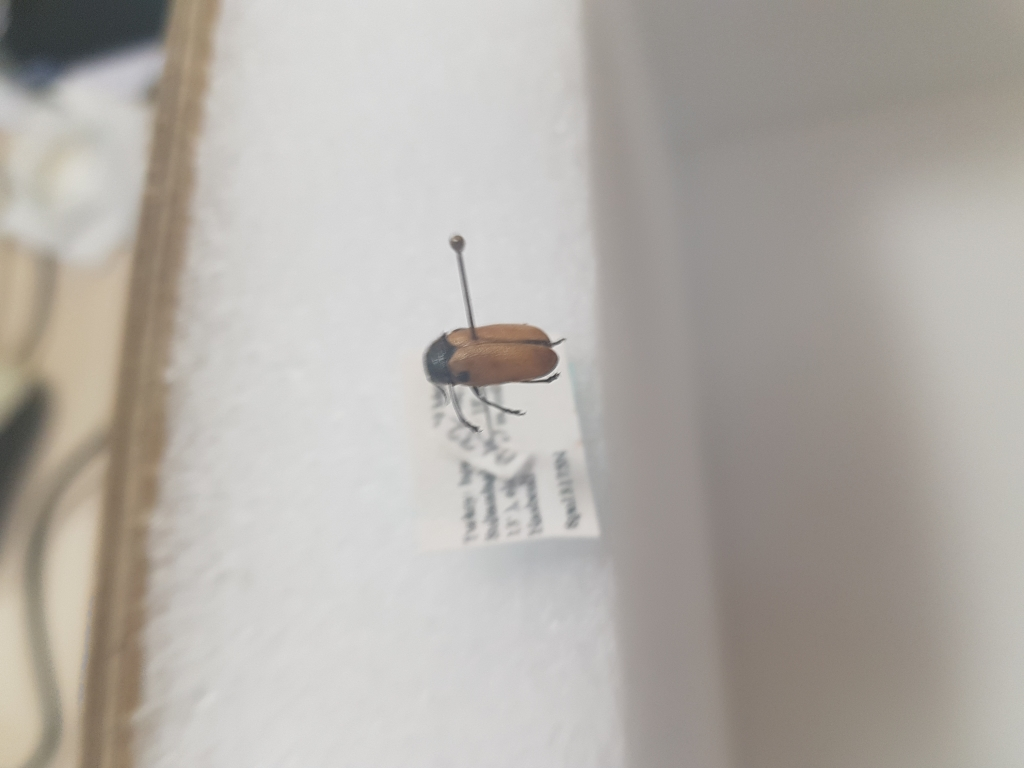Labidostomis_asiatica: (420, 313, 573, 430)
